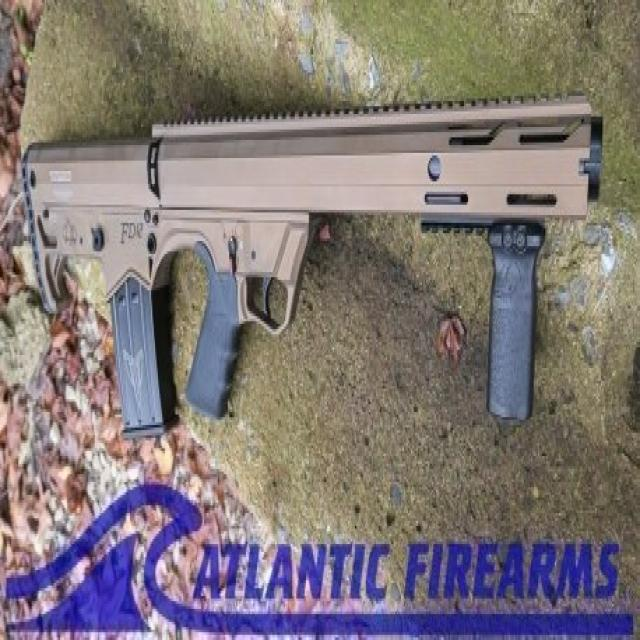ShotGun: (21, 98, 605, 440)
